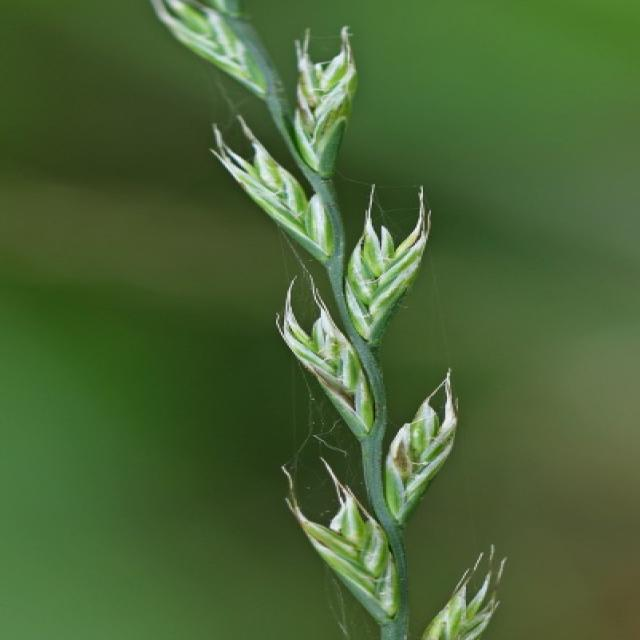Lolium: (147, 1, 512, 638)
